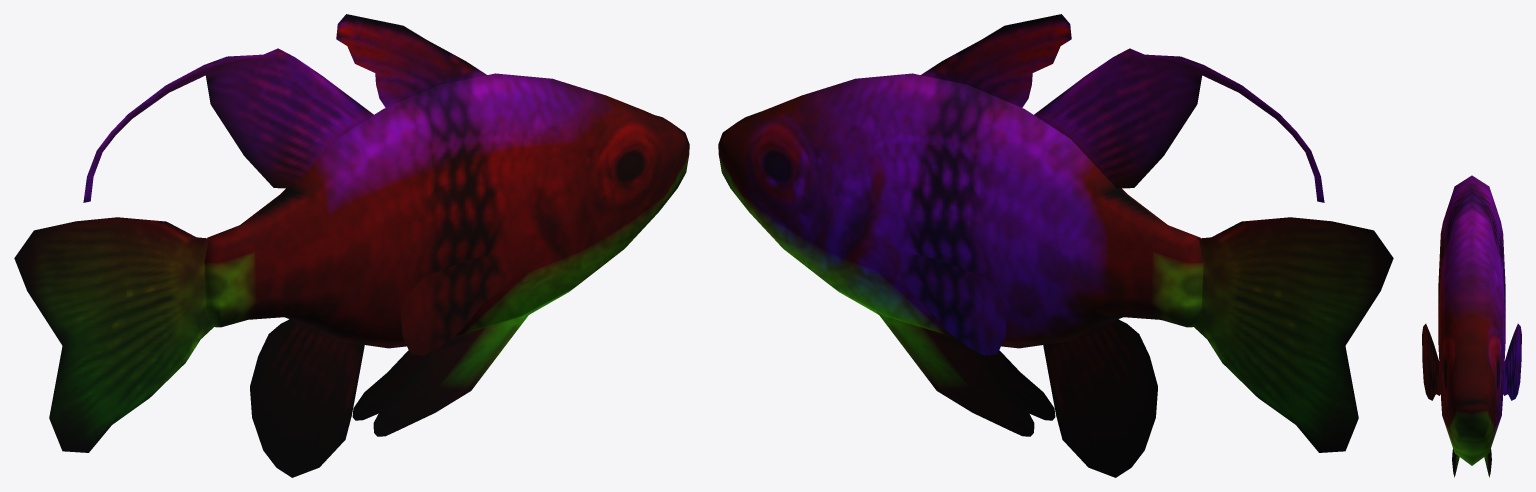
Rendered from pajama_cardinalfish.glb.
3 views of the same model, side by side, from view 1: azimuth 30°, elevation 25°; view 2: azimuth 150°, elevation 25°; view 3: azimuth 270°, elevation 25° (orthographic). The views are drawn at different scales.
Parts seen in each view (by area): view 1: PajamaCardinalfish; view 2: PajamaCardinalfish; view 3: PajamaCardinalfish.
Boxes of the visible parts, <box> form: PajamaCardinalfish: <box>14,14,689,477</box>; PajamaCardinalfish: <box>718,14,1393,477</box>; PajamaCardinalfish: <box>1422,175,1521,477</box>.
Bounding box in the file's own units: 1 × 0.6378 × 0.1422.
1 material, 1 textured.
